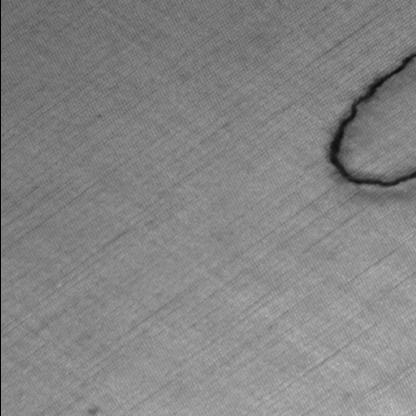objects: (322, 50, 415, 194)
